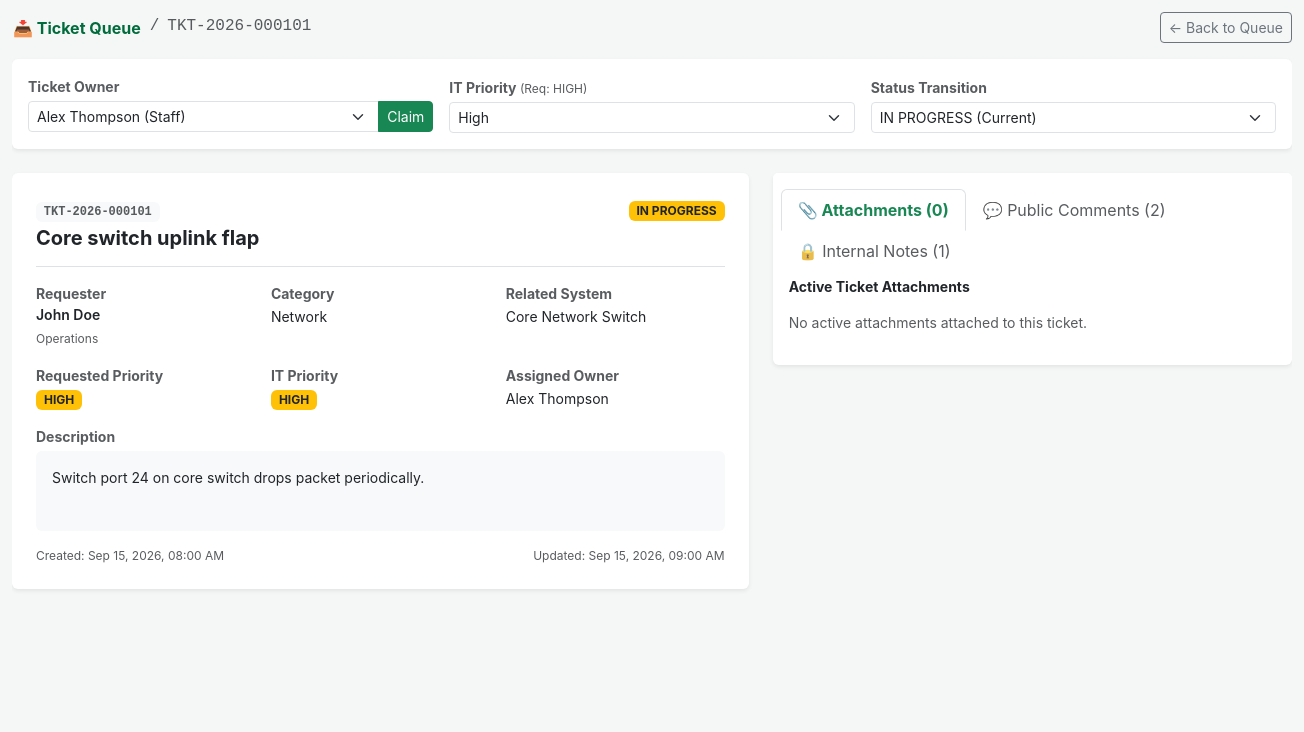
Test: UI-05: Tabbed Comments, Internal Notes & Requester Resolution › UI-05: Staff view renders distinct Public Comments and Amber Internal Notes tabs
# Switch to Public Comments tab
Click the button with test id "tab-comments-btn" at (1074, 210), box [966, 189, 1183, 231]
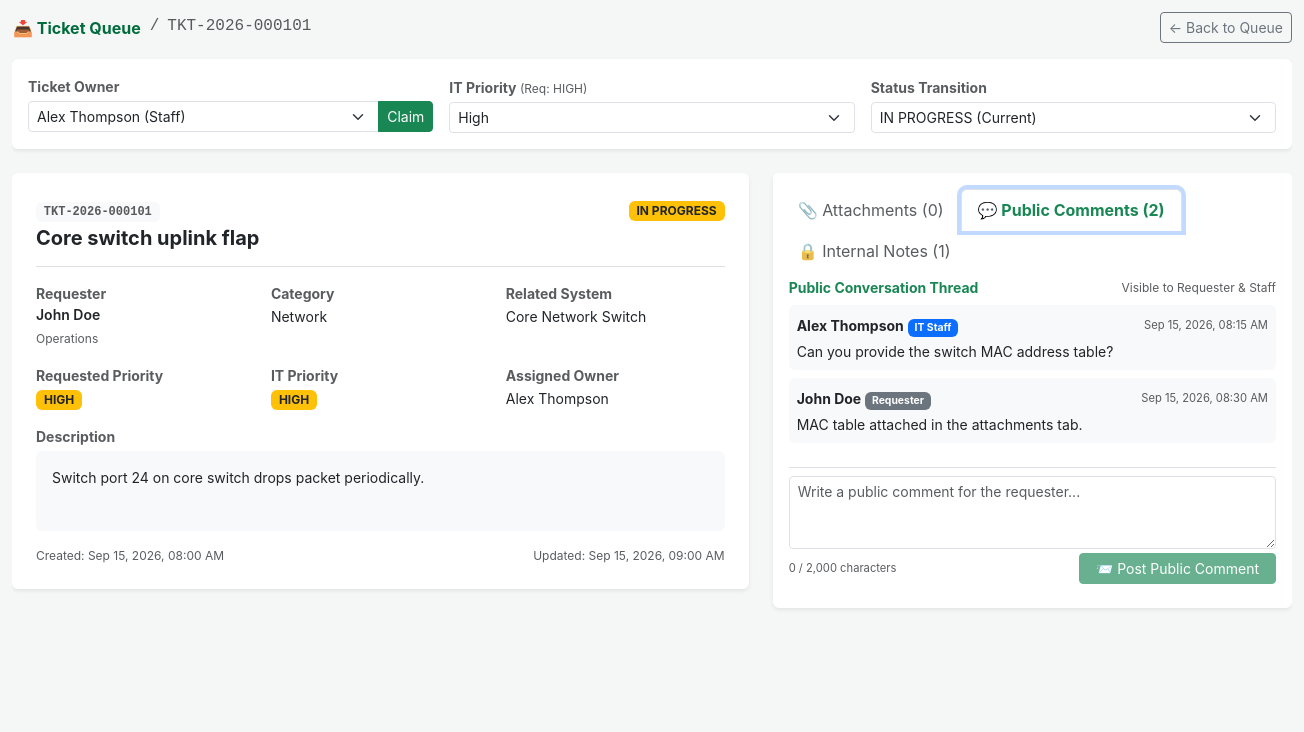
Now the element with test id "comments-tab-pane" is shown, box [789, 279, 1276, 584]
Now the text "Can you provide the switch MAC address table?" is shown, box [797, 343, 1113, 360]
Now the text "MAC table attached in the attachments tab." is shown, box [797, 416, 1082, 433]
# Switch to Internal Notes tab
Click the button with test id "tab-notes-btn" at (874, 251), box [781, 230, 968, 272]
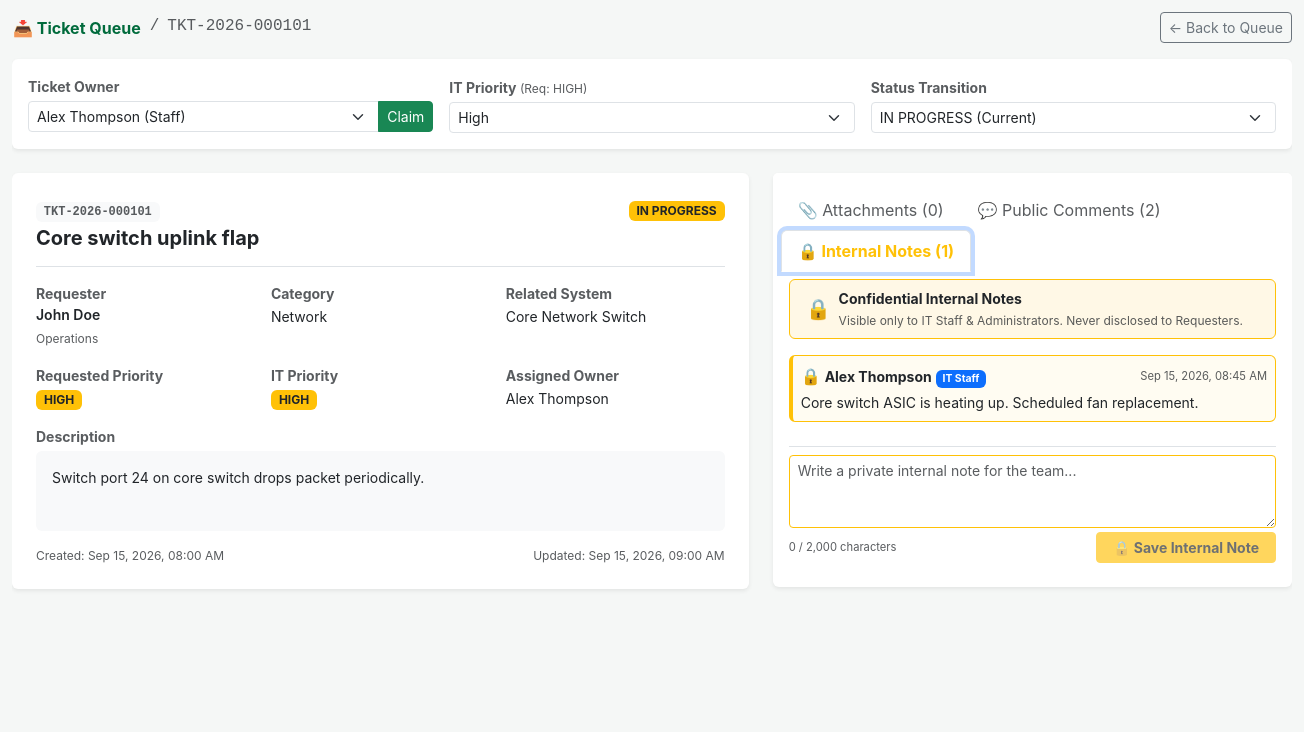
Now the element with test id "notes-tab-pane" is shown, box [789, 279, 1276, 563]
Now the element with test id "internal-notes-banner" is shown, box [789, 279, 1276, 339]
Now the text "Core switch ASIC is heating up. Scheduled fan replacement." is shown, box [801, 392, 1267, 413]
